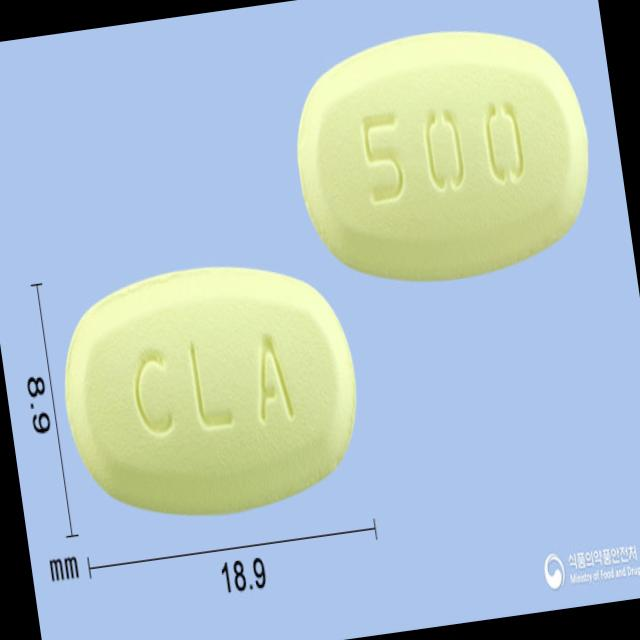Clar: (278, 5, 610, 301), (45, 242, 376, 538)
